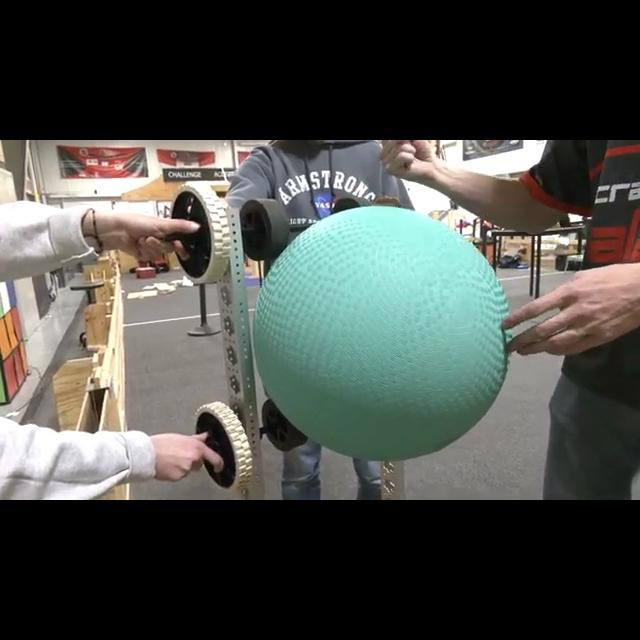ALGAE: (251, 203, 514, 462)
